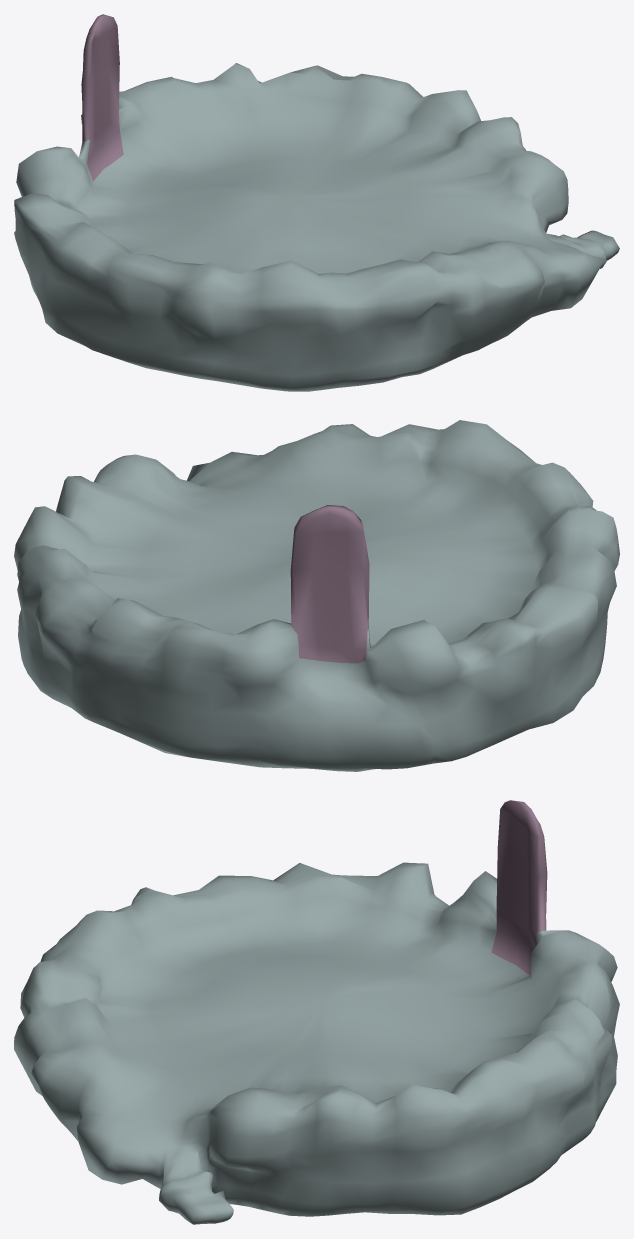
Rendered from Arena_low.fbx.
3 renders of one model, top to bottom at view 1: azimuth 30°, elevation 25°; view 2: azimuth 150°, elevation 25°; view 3: azimuth 270°, elevation 25°, orthographic. The views are drawn at different scales.
Visible parts, largest first — view 1: low; view 2: low; view 3: low.
Part boxes in pixels (box(x1,y1,x2,y2)): low: box(14, 14, 619, 391); low: box(14, 420, 619, 771); low: box(14, 800, 619, 1224).
Bounding box in the file's own units: 919 × 415 × 881.
